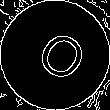O_SW: (23, 22, 87, 88)
